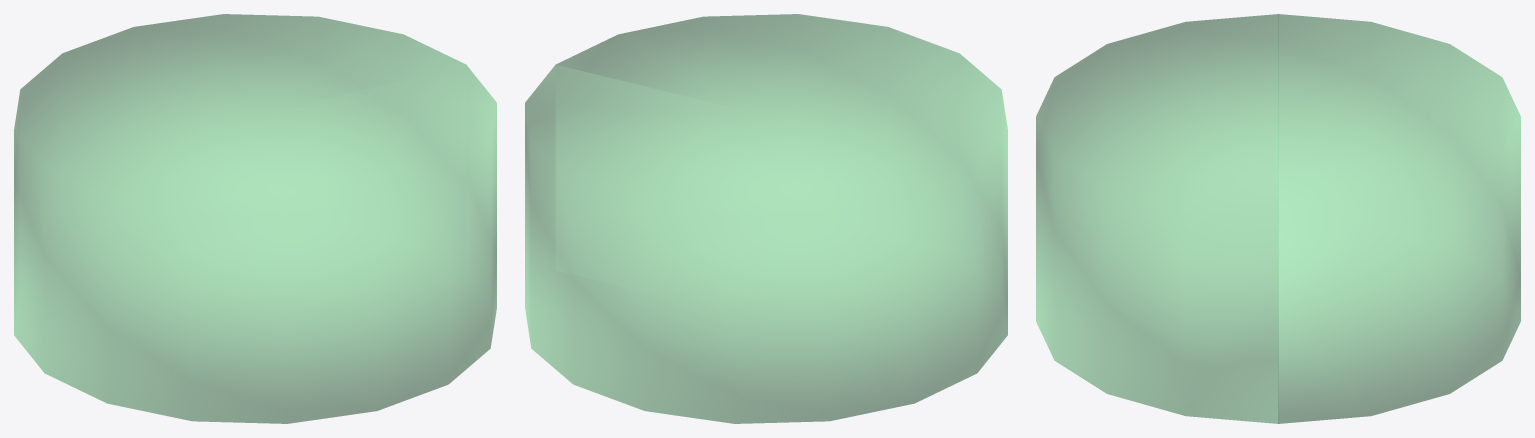
The model's file is prop_dala_col.glb.
3 views of the same model, side by side, from view 1: azimuth 30°, elevation 25°; view 2: azimuth 150°, elevation 25°; view 3: azimuth 270°, elevation 25° (orthographic).
Visible parts, largest first — view 1: prop_dala_col_0; view 2: prop_dala_col_0; view 3: prop_dala_col_0.
Part boxes in pixels (left/top/right/bottom): prop_dala_col_0: left=14, top=14, right=496, bottom=423; prop_dala_col_0: left=525, top=14, right=1007, bottom=423; prop_dala_col_0: left=1036, top=14, right=1520, bottom=423.
Bounding box in the file's own units: 0.45 × 0.21 × 0.45.
